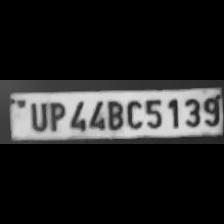1: (164, 96, 181, 128)
3: (181, 96, 201, 128)
4: (66, 97, 88, 130), (86, 97, 104, 130)
5: (141, 97, 163, 129)
9: (201, 94, 221, 128)
B: (104, 98, 124, 130)
C: (124, 97, 142, 129)
P: (45, 100, 65, 132)
U: (26, 100, 48, 132)
